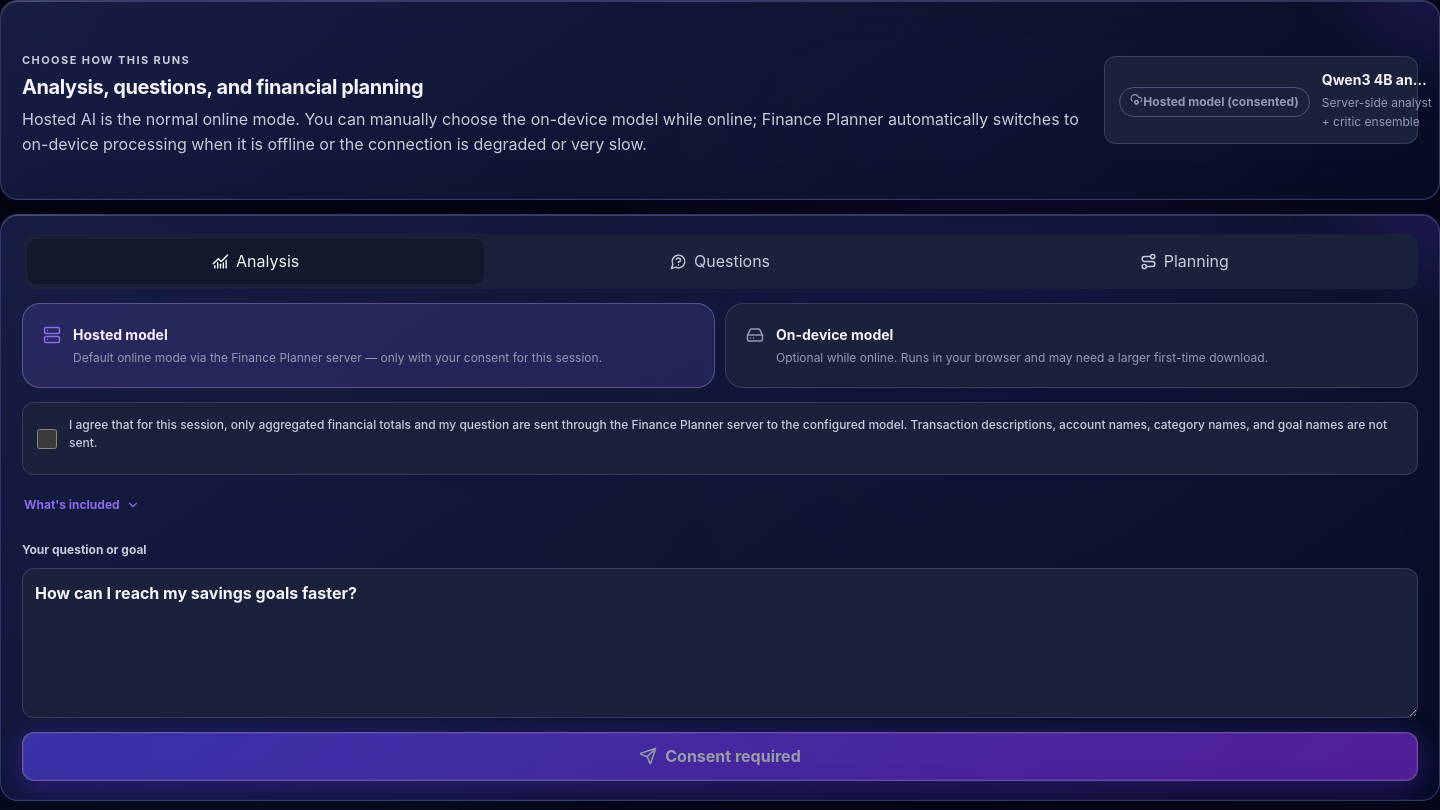
Test: FinanceAssistant › allows the user to manually choose on-device processing while online
The image size is (1440, 810).
Click the radio button labelled "On-device model" at (835, 334), box [725,303,1418,388]
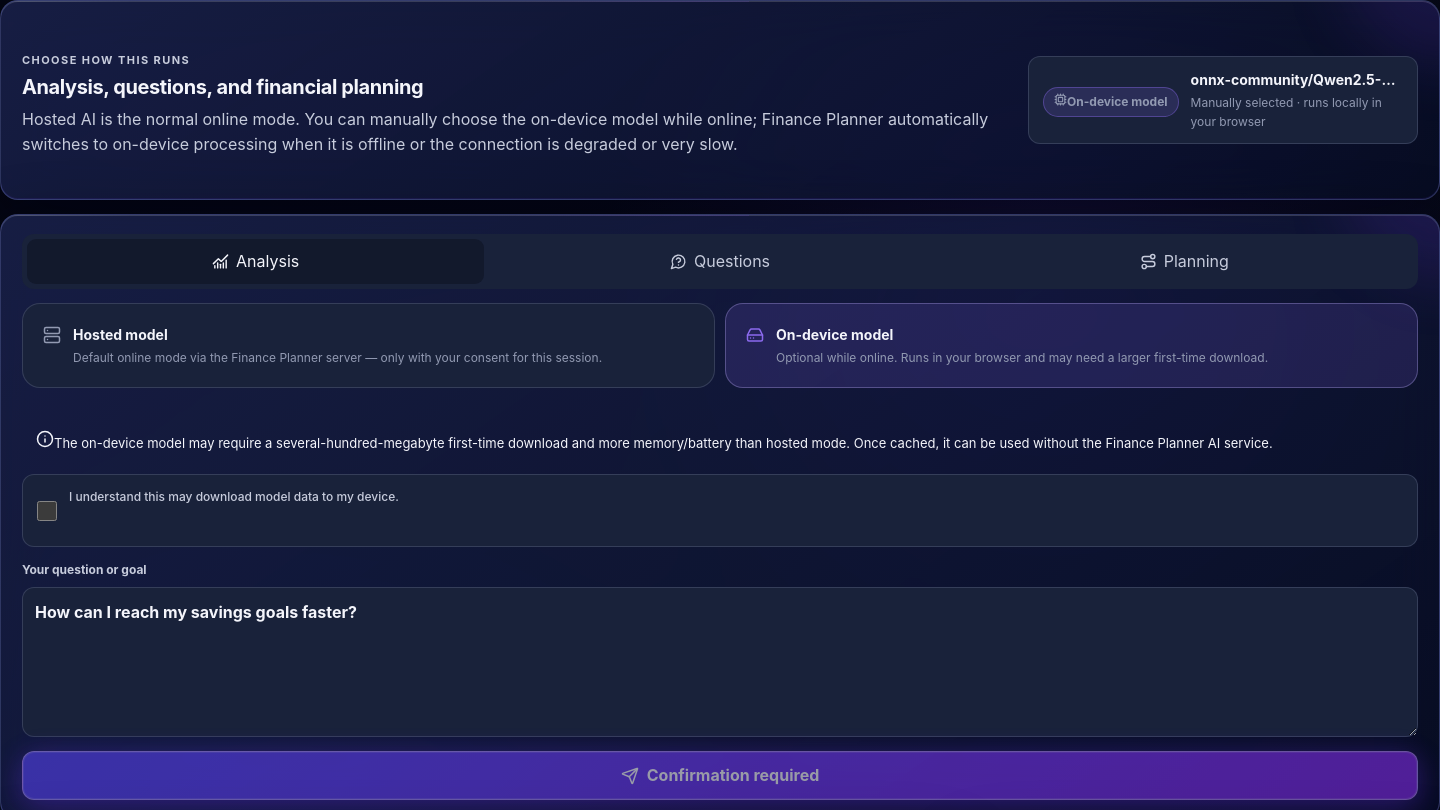
Expected: the checkbox labelled "I understand this may download model data to my device." is shown, [37,489,57,533]
Now the text "I agree that for this session" is gone
Now the text "several-hundred-megabyte" is shown, box [54,436,1273,452]
